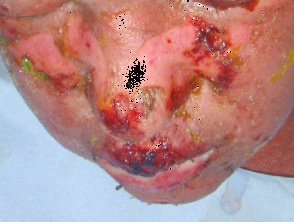SJS-TEN: (0, 0, 289, 203)
